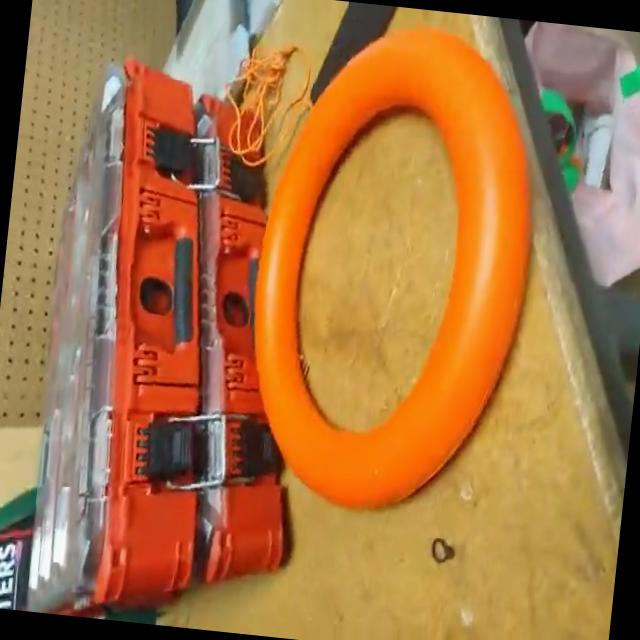note: (227, 9, 558, 533)
